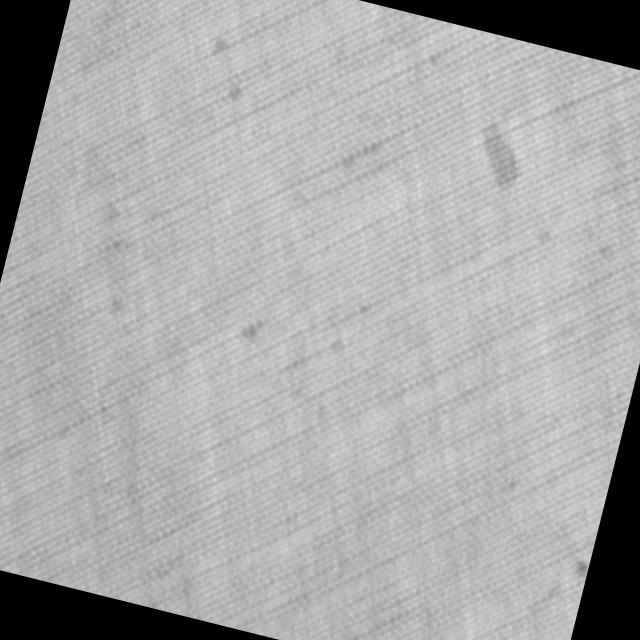oil spot: (471, 119, 534, 198)
